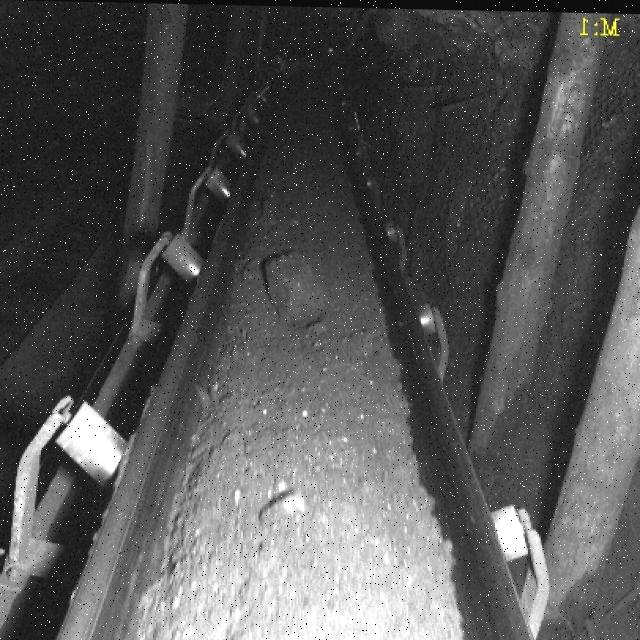large_sized_coal: (262, 250, 328, 324), (258, 484, 309, 521)
